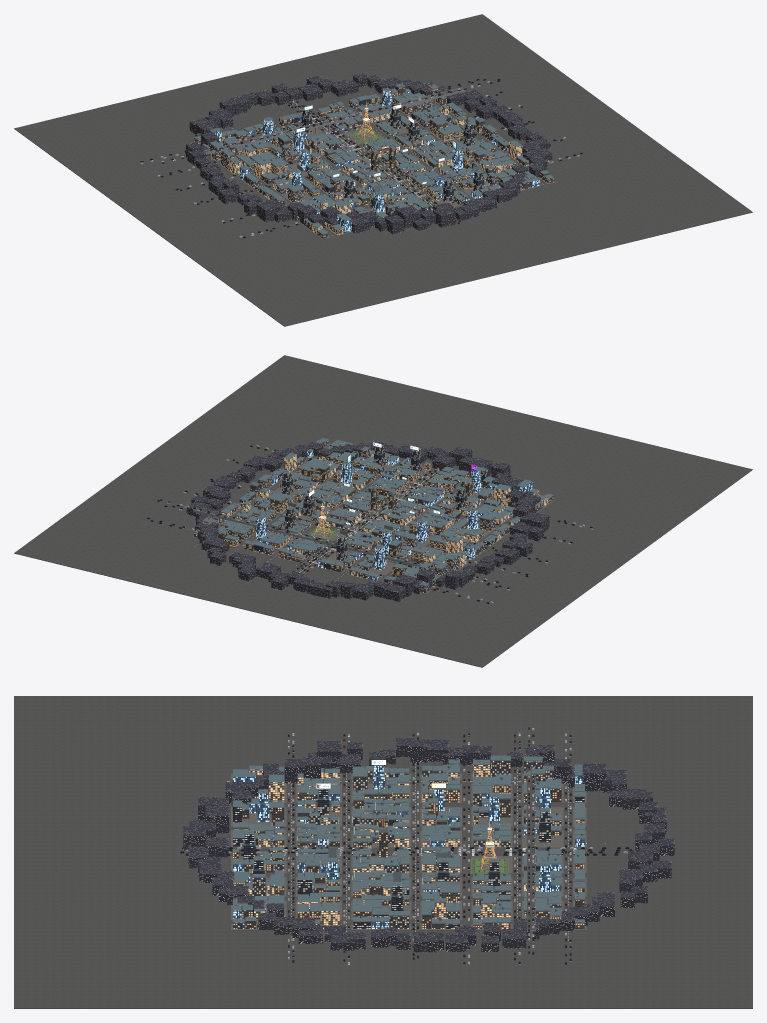
The model's file is akasaka.glb.
3 views of the same model, one above another, from view 1: azimuth 30°, elevation 25°; view 2: azimuth 150°, elevation 25°; view 3: azimuth 270°, elevation 25° (orthographic). The views are drawn at different scales.
Visible parts, largest first — view 1: street, skyline, roof, concrete, paving, facade0, facade2, facade3, facade4, facade1, facade5, metal (+1 smaller); view 2: street, skyline, roof, concrete, paving, facade4, facade0, facade3, facade2, facade1, facade5, metal; view 3: street, skyline, roof, paving, facade4, facade3, concrete, facade5, facade1, facade0, facade2, metal (+3 smaller).
Part boxes in pixels (x1,y1,x2,y2): street: (14, 14, 752, 326); skyline: (186, 73, 552, 234); roof: (194, 83, 553, 234); concrete: (194, 85, 508, 203); paving: (208, 99, 556, 239); facade0: (221, 86, 549, 238); facade2: (237, 86, 529, 234); facade3: (209, 89, 539, 233); facade4: (228, 105, 522, 233); facade1: (194, 98, 554, 214); facade5: (233, 99, 508, 216); metal: (197, 84, 496, 202); street: (14, 355, 752, 667); skyline: (186, 441, 549, 601); roof: (194, 438, 553, 585); concrete: (193, 445, 510, 586); paving: (192, 443, 555, 593); facade4: (221, 452, 548, 576); facade0: (213, 442, 554, 583); facade3: (256, 442, 532, 580); facade2: (194, 451, 539, 568); facade1: (225, 439, 505, 592); facade5: (215, 446, 497, 584); metal: (197, 442, 501, 584); street: (14, 696, 752, 1008); skyline: (183, 738, 674, 952); roof: (233, 755, 584, 923); paving: (231, 773, 586, 930); facade4: (248, 765, 584, 928); facade3: (233, 764, 584, 928); concrete: (243, 760, 584, 940); facade5: (233, 773, 584, 928); facade1: (233, 761, 561, 928); facade0: (233, 771, 584, 928); facade2: (233, 781, 584, 928); metal: (248, 749, 605, 926).
Bounding box in the file's own units: 320 × 23.61 × 320.
34 materials, 21 textured.
